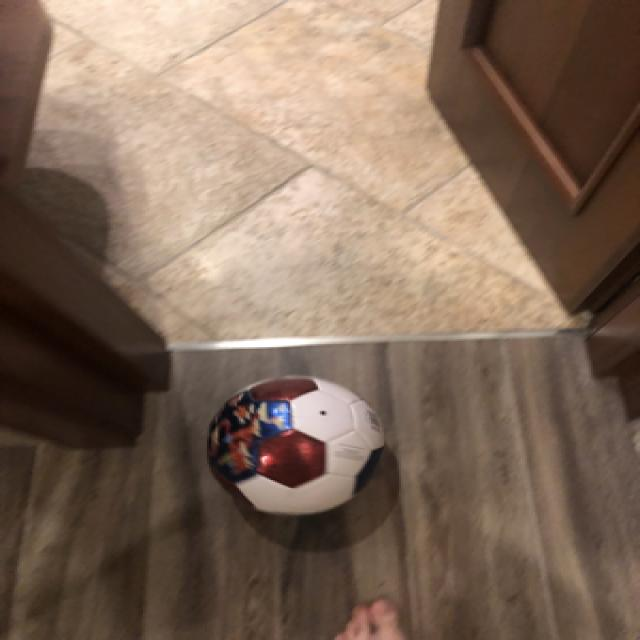soccer_ball: (201, 372, 388, 518)
